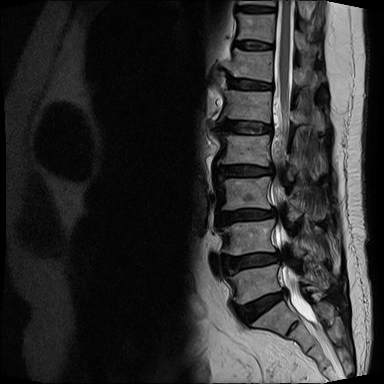Degenerative Disc Disease (DDD): (233, 2, 280, 16)
Lumbar Disc Bulge (LDB): (227, 282, 293, 333), (212, 243, 286, 281), (212, 202, 283, 233), (211, 156, 282, 185), (211, 114, 281, 140), (217, 69, 278, 97)
Normal IVD: (229, 35, 275, 53)
Spinal Stenosis (SS): (263, 156, 279, 182), (269, 243, 285, 268), (275, 281, 291, 306), (262, 119, 279, 141), (265, 199, 278, 222), (267, 76, 278, 96)
